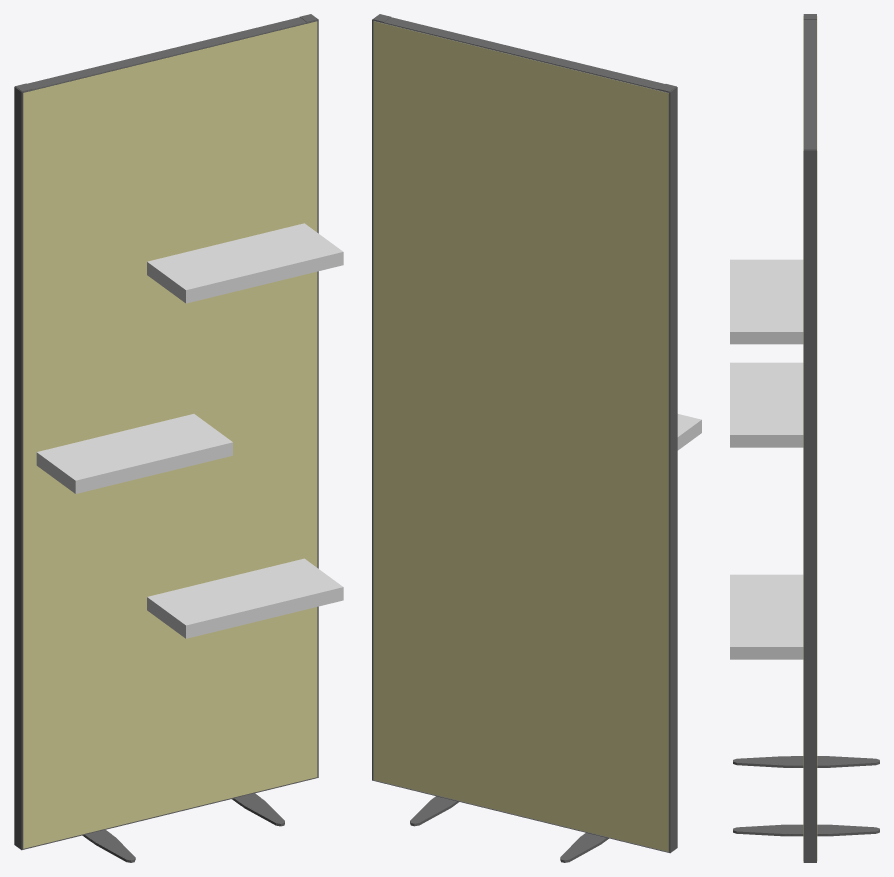
File: Shelves Module M2.glb
3 views of the same model, side by side, from view 1: azimuth 30°, elevation 25°; view 2: azimuth 150°, elevation 25°; view 3: azimuth 270°, elevation 25° (orthographic). The views are drawn at different scales.
Parts seen in each view (by area): view 1: Standard 38.015, Cube.002, toggle_feet_center.006; view 2: toggle_back_panel.008, Standard 38.015, toggle_feet_center.006, Cube.002; view 3: Cube.002, Standard 38.015, toggle_feet_center.006, toggle_back_panel.008, toggle_feet_edge.004.
Boxes of the visible parts, x1,y1,x2,y2 form: Standard 38.015: (14,14,318,850); Cube.002: (36,223,343,638); toggle_feet_center.006: (82,793,280,857); toggle_back_panel.008: (373,21,668,851); Standard 38.015: (372,14,677,853); toggle_feet_center.006: (410,796,608,862); Cube.002: (677,414,701,450); Cube.002: (730,259,803,659); Standard 38.015: (803,14,816,862); toggle_feet_center.006: (740,756,879,836); toggle_back_panel.008: (817,16,817,860); toggle_feet_edge.004: (733,756,791,836).
Size of the model in its own units: 0.969 by 2.37 by 0.4503.
